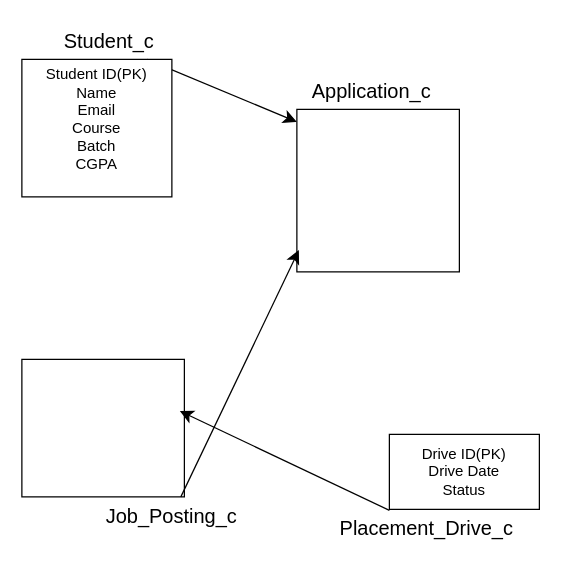
Image size: 561x569. Some labels were removed from this diagram. The centre of each missing label's shape, as x and y in pixels:
Application ID(PK) Status Applied Date Student ID(FK) Job Posting(FK): the point at 377,190
Job Posting ID(PK) Job Title Job type Eligibility Company Drive Id(FK): the point at 102,427
